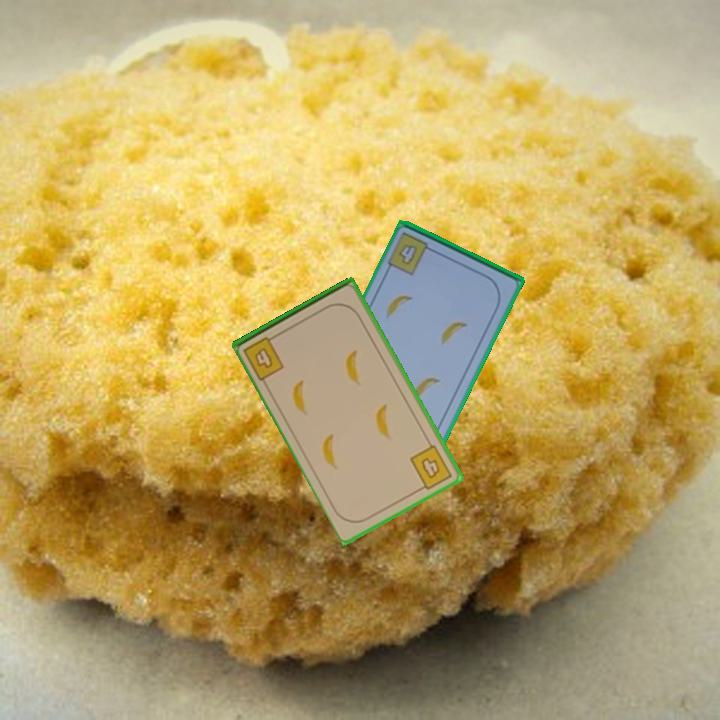4b: (406, 441, 455, 494), (240, 331, 287, 383), (395, 241, 421, 268)
